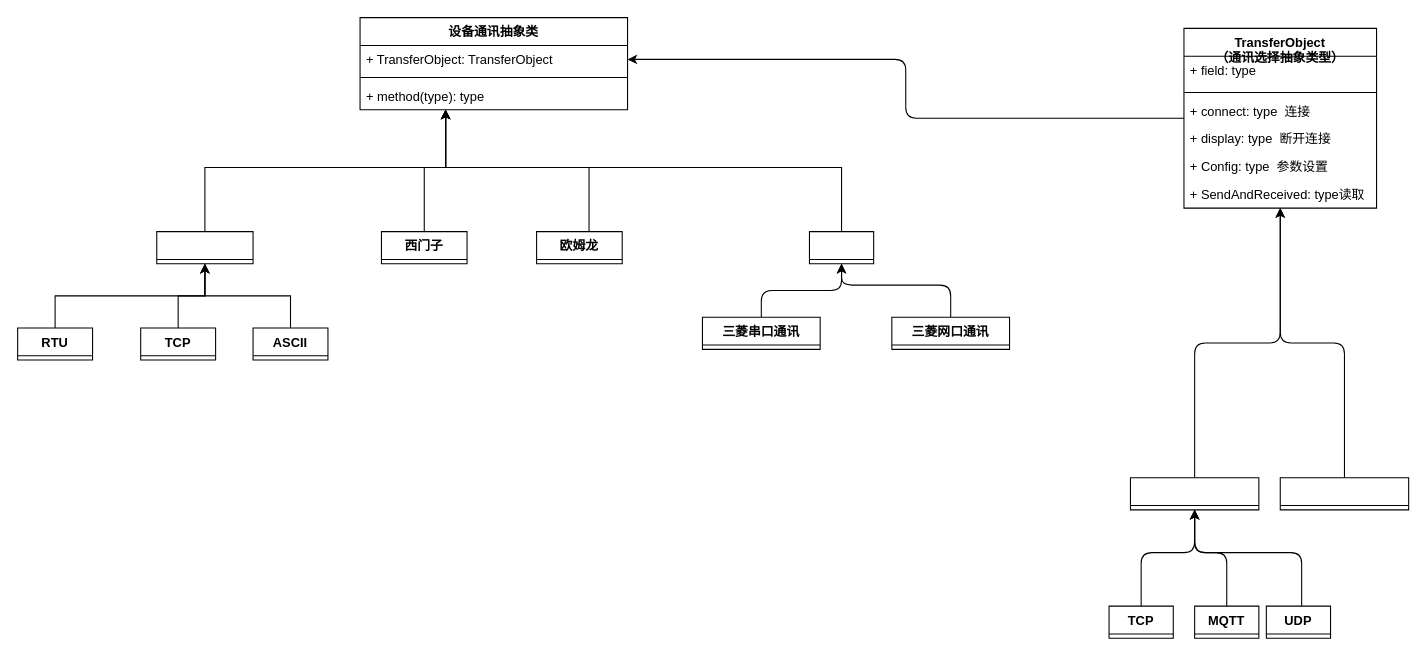
The diagram is 1426 pixels wide and 656 high, and some of its shapes have lost their labels. Each missing label, with the centre of its shape:
modbus基类: the point at 204,247
SerialUnit: the point at 1344,493
Socket: the point at 1194,493
三菱基类: the point at 841,247
